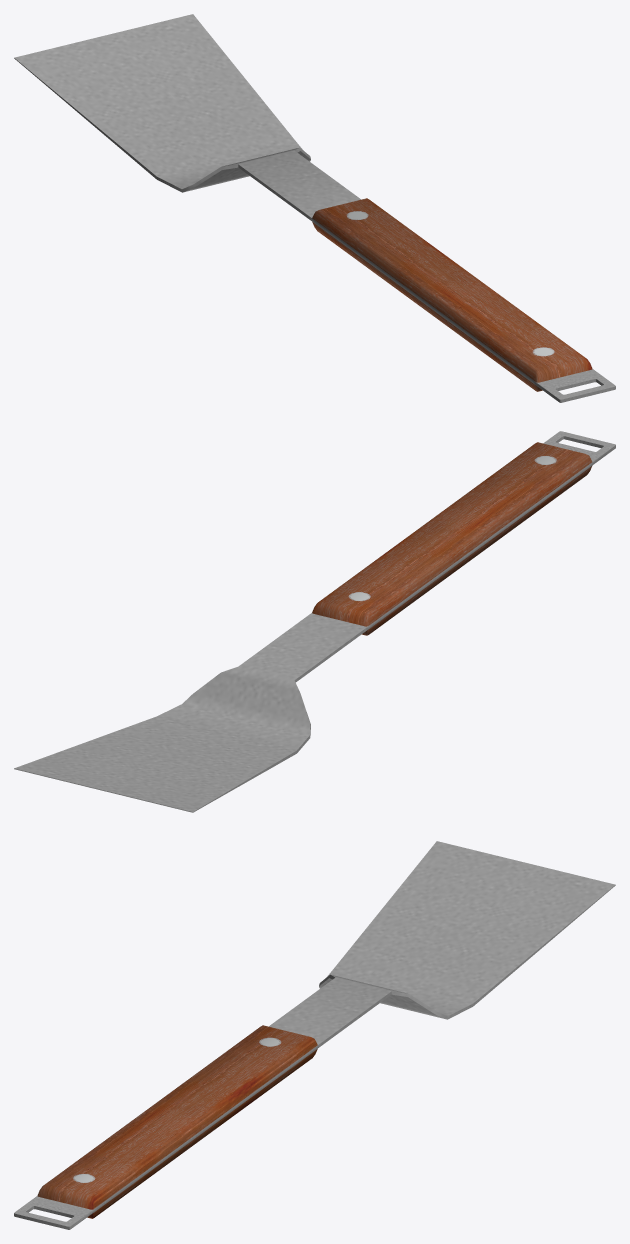
File: GardenKitchenTool01_3.FBX
The picture shows the model from 3 angles, top to bottom: view 1: azimuth 30°, elevation 25°; view 2: azimuth 150°, elevation 25°; view 3: azimuth 330°, elevation 25°; orthographic projection.
Visible parts, largest first — view 1: GardenKitchenTool01_3; view 2: GardenKitchenTool01_3; view 3: GardenKitchenTool01_3.
Boxes of the visible parts, <box> form: GardenKitchenTool01_3: <box>14,14,615,402</box>; GardenKitchenTool01_3: <box>14,431,615,812</box>; GardenKitchenTool01_3: <box>14,841,615,1229</box>.
Size of what is drawn, in the model's own units: 0.0761 by 0.0178 by 0.3573.
